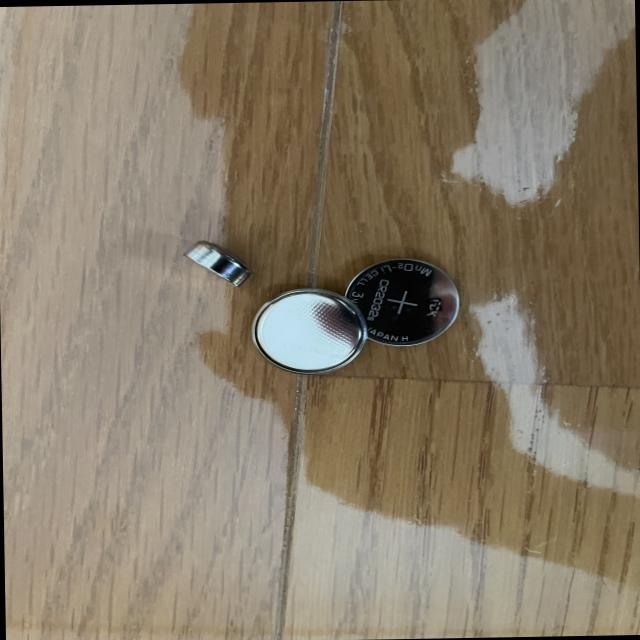COIN: (339, 254, 462, 348), (250, 284, 366, 376), (180, 236, 254, 286)
